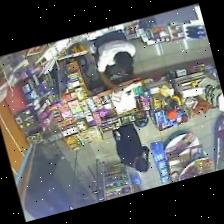person: (93, 31, 134, 91), (112, 123, 148, 171)
